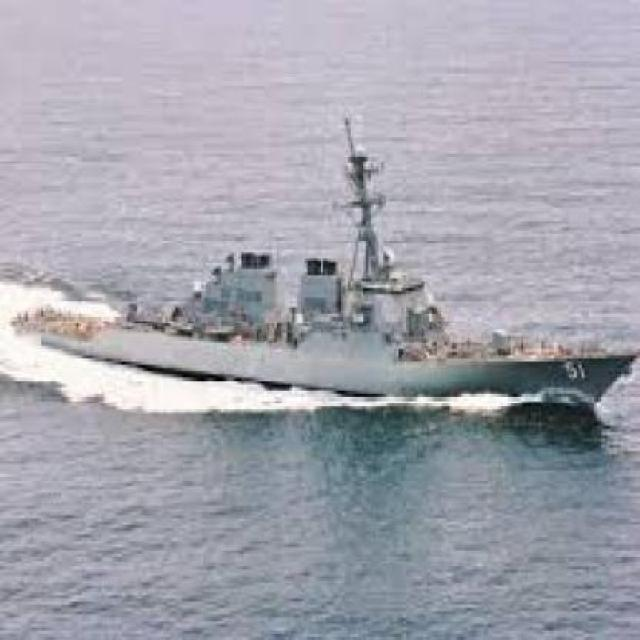warship2: (14, 94, 639, 431)
